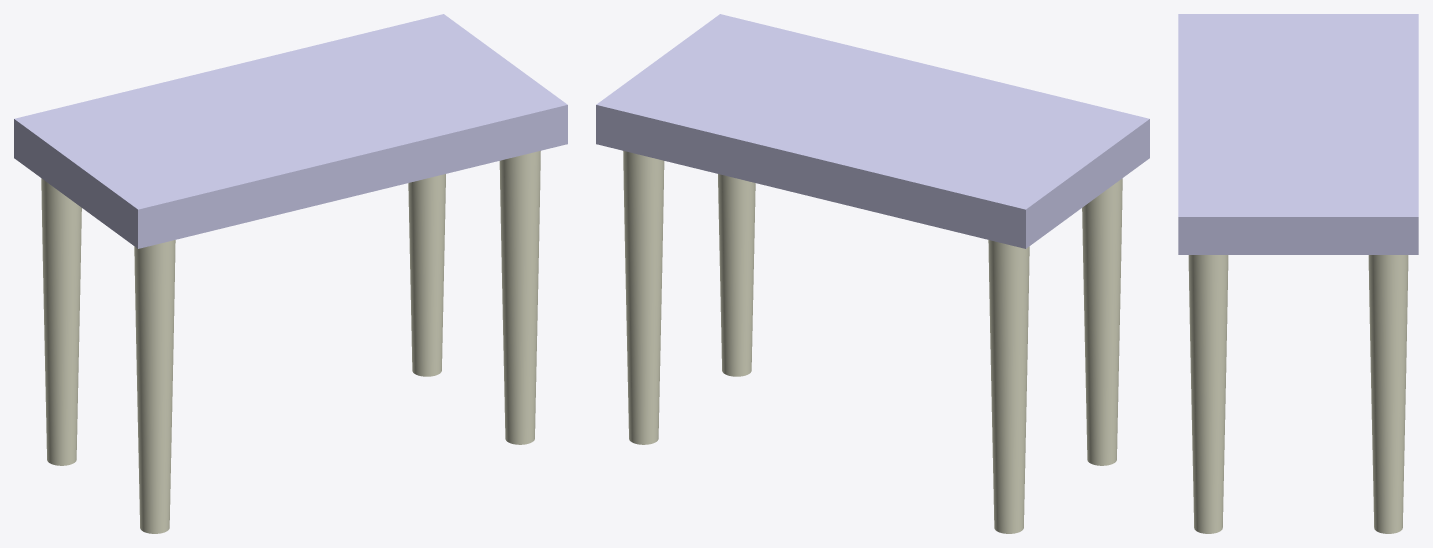
File: desk1_purple.glb
3 views of the same model, side by side, from view 1: azimuth 30°, elevation 25°; view 2: azimuth 150°, elevation 25°; view 3: azimuth 270°, elevation 25° (orthographic). The views are drawn at different scales.
Visible parts, largest first — view 1: Box002; view 2: Box002; view 3: Box002.
Boxes of the visible parts, left/top/right/bottom form: Box002: left=14, top=14, right=567, bottom=533; Box002: left=596, top=14, right=1149, bottom=533; Box002: left=1178, top=14, right=1418, bottom=533.
Size of the model in its own units: 0.16 by 0.12 by 0.08.
Materials: 1 (1 with a texture image).
